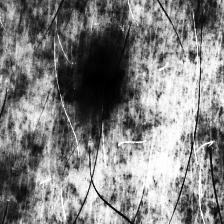Benign Marking or Mole: (78, 42, 125, 111)
